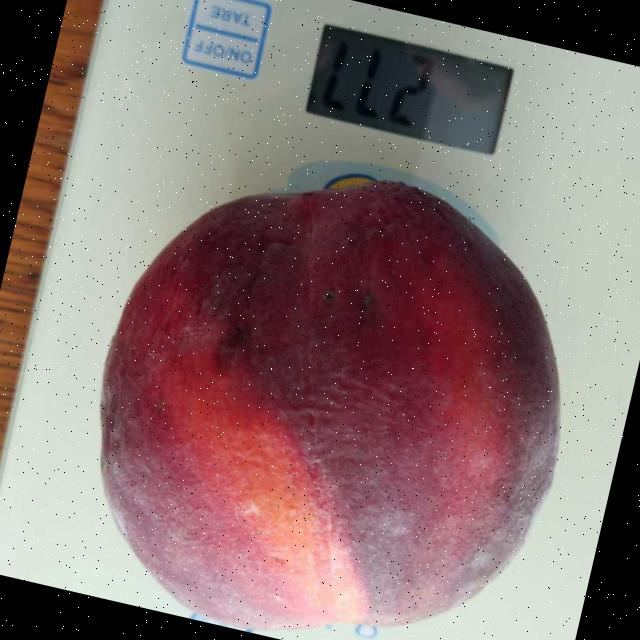peach: (98, 190, 557, 623)
